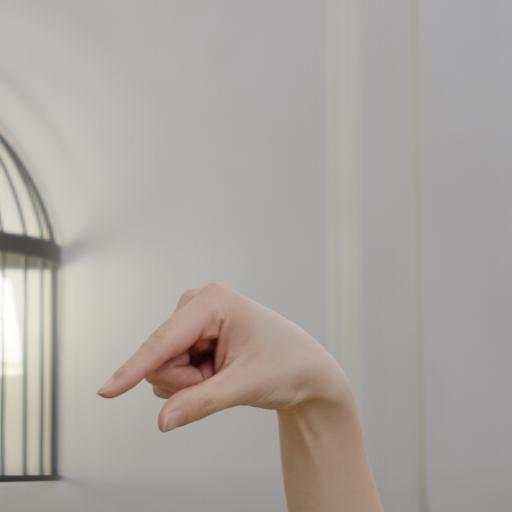Q: (72, 239, 356, 501)
